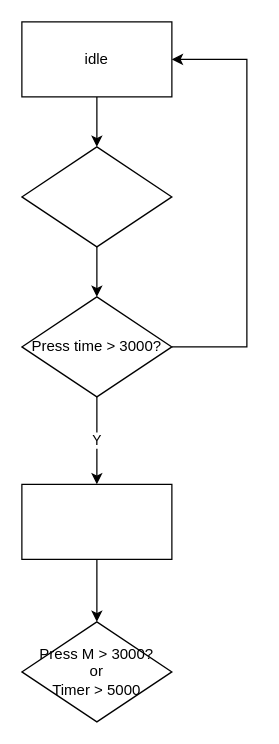
This 279x744 diagram has some shape labels left out. The centre of each missing label's shape, as x and y in pixels:
M mode: the point at 96,521
Press M ?: the point at 96,196
